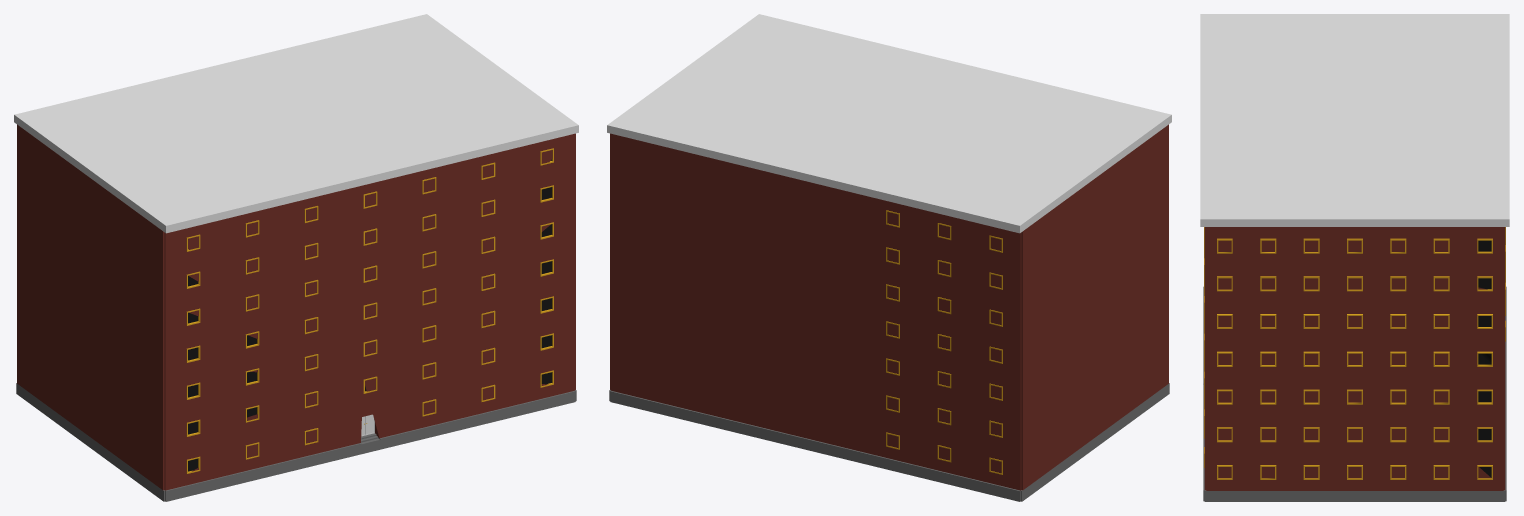
The model's file is BCS40_F07_01.fbx.
3 views of the same model, side by side, from view 1: azimuth 30°, elevation 25°; view 2: azimuth 150°, elevation 25°; view 3: azimuth 270°, elevation 25° (orthographic).
Visible parts, largest first — view 1: BCS40_F07_01; view 2: BCS40_F07_01; view 3: BCS40_F07_01.
Part boxes in pixels (bbox=[...]): BCS40_F07_01: bbox=[14, 14, 578, 501]; BCS40_F07_01: bbox=[607, 14, 1171, 501]; BCS40_F07_01: bbox=[1200, 14, 1509, 501].
Size of the model in its own units: 4015 by 2570 by 2550.
